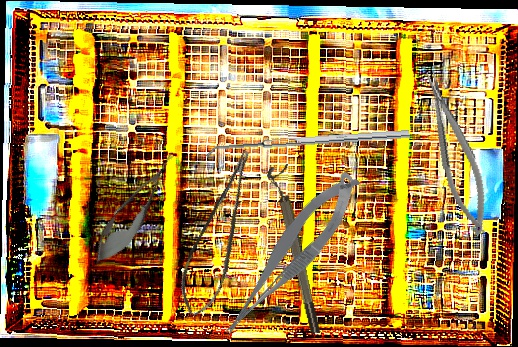Fixation Ring: (265, 163, 324, 337)
Micro Scissor: (202, 165, 376, 343), (165, 147, 280, 322), (84, 143, 187, 274)
Needle Holder: (418, 65, 496, 240)
Spatula Surgical: (205, 129, 411, 161)
